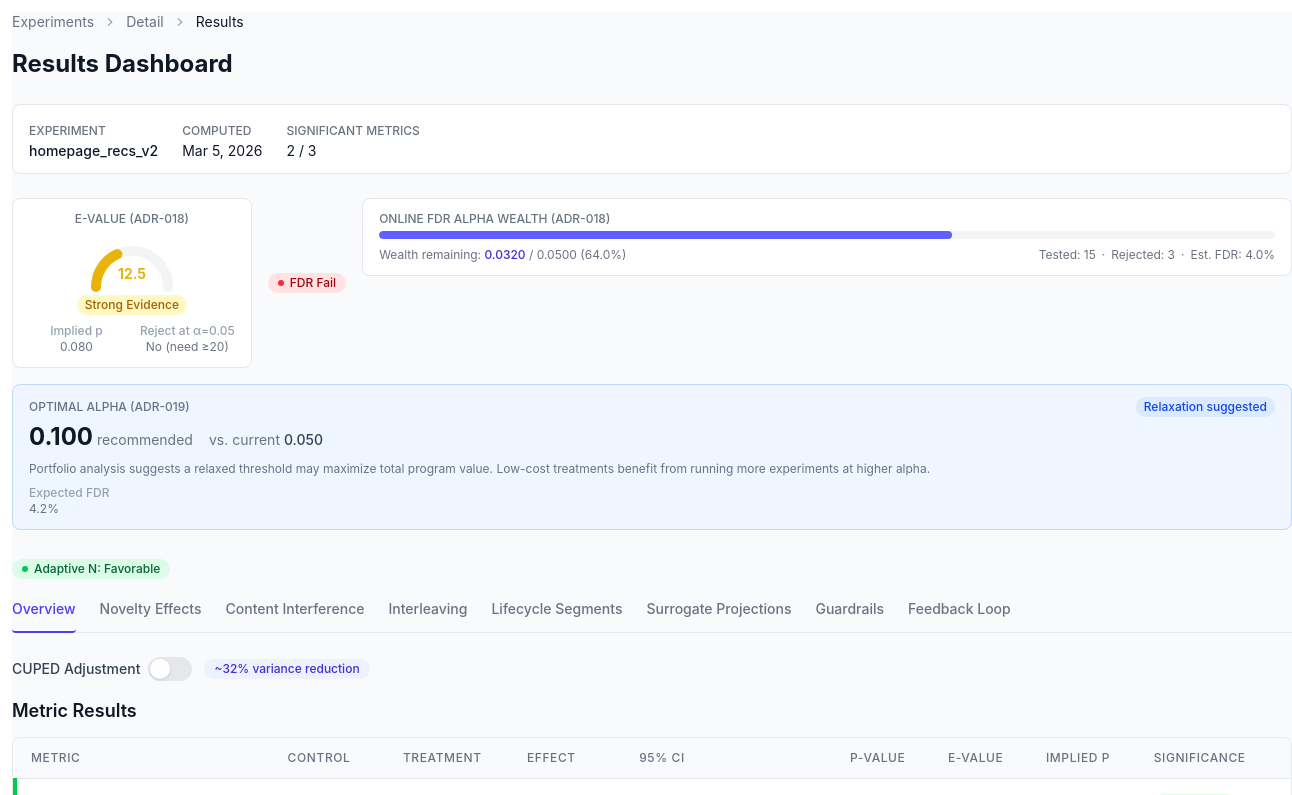
Test: Chaos: Backend goes down mid-session › shows error on newly-loaded tab after backend fails, recovers on retry
Expected: the heading "Results Dashboard" is shown, [12,49,233,78]
// Switch to Novelty tab — this triggers a new fetch that hits the 500
Click the tab "Novelty Effects": (150, 614) [100,595,202,633]
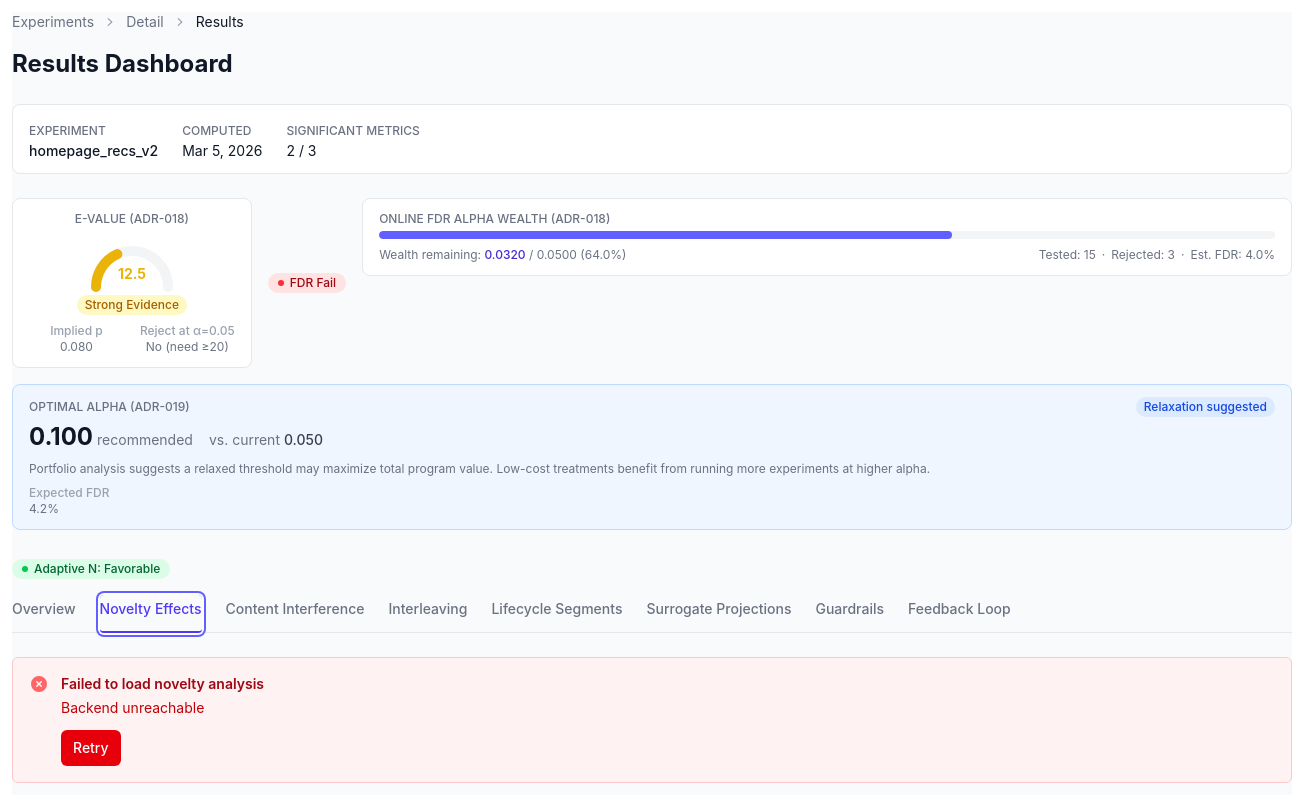
Expected: the message "Failed to load novelty analysis Backend unreachable Retry" is shown, [12,657,1291,783]
Expected: the text "Backend unreachable" is shown, [61,699,204,716]
// Click retry
Click the button with test id "retry-button": (91, 748) [61,730,121,766]
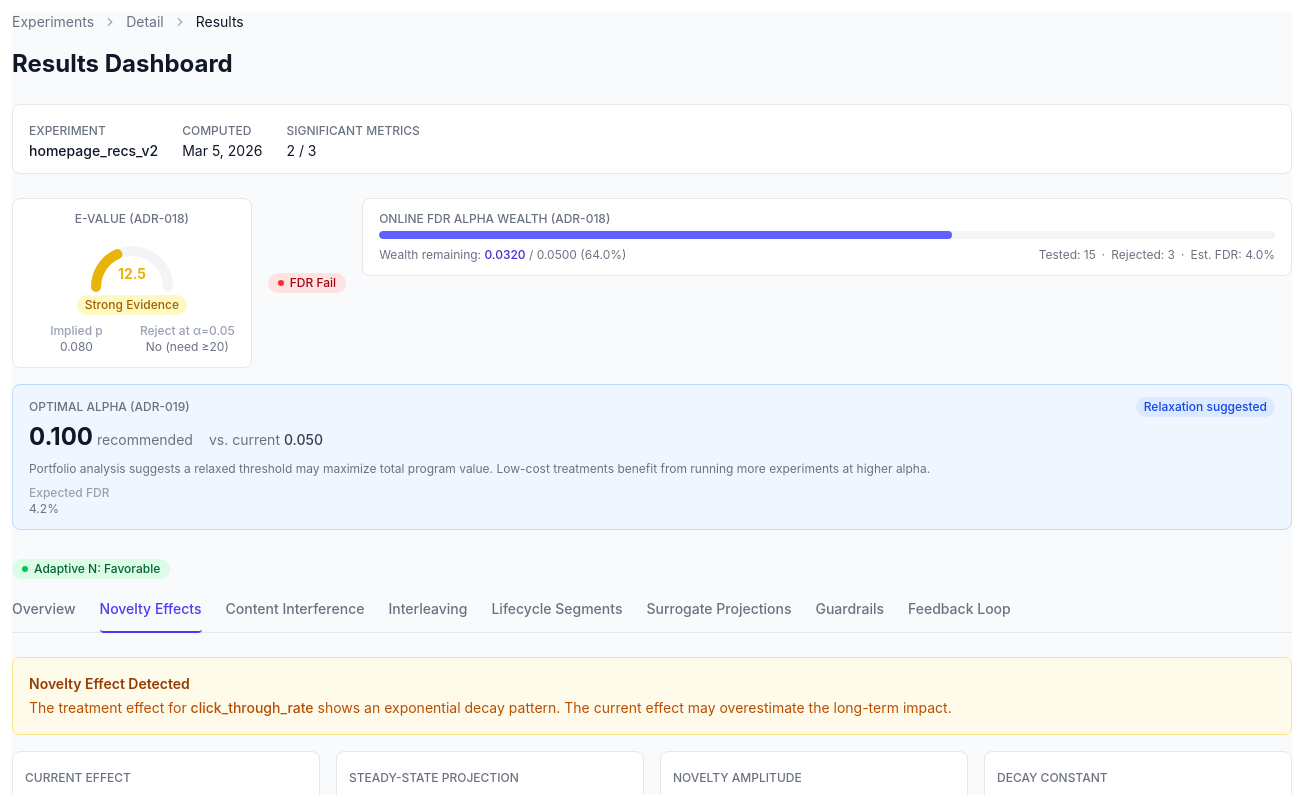
Expected: the heading "Novelty Effect Detected" is shown, [29,675,190,692]
Expected: the message with test id "retryable-error" is gone
